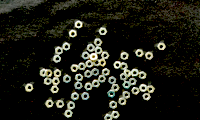nut: (46, 100, 55, 109), (53, 55, 62, 64), (90, 53, 99, 62), (98, 75, 107, 84), (25, 84, 34, 92), (44, 70, 53, 78), (51, 86, 60, 94), (54, 70, 62, 79), (55, 47, 63, 56), (56, 101, 65, 109), (65, 110, 73, 119), (63, 75, 71, 84), (69, 30, 77, 39), (71, 93, 80, 101), (75, 74, 84, 82), (78, 63, 87, 71), (85, 70, 93, 79), (86, 60, 94, 69), (82, 52, 91, 60), (87, 44, 95, 53), (92, 80, 101, 88), (92, 68, 100, 77), (94, 39, 103, 47), (99, 28, 108, 36), (98, 59, 107, 67), (101, 52, 110, 60), (108, 90, 116, 99), (110, 101, 118, 110), (112, 111, 120, 120), (119, 98, 127, 107), (123, 91, 131, 100), (121, 52, 129, 61), (44, 78, 52, 86), (52, 78, 60, 86), (63, 43, 71, 51), (75, 21, 83, 29), (68, 102, 76, 110), (71, 65, 79, 73), (75, 82, 83, 90), (82, 93, 90, 101), (85, 83, 93, 91), (95, 47, 103, 55), (102, 69, 110, 77), (109, 77, 117, 85), (114, 62, 122, 70), (120, 73, 128, 81), (124, 70, 132, 78), (132, 88, 140, 96), (139, 72, 147, 80), (136, 50, 144, 58), (140, 85, 148, 93), (143, 93, 151, 101), (147, 86, 155, 94), (146, 52, 154, 60), (158, 43, 166, 51), (123, 82, 132, 89), (131, 70, 140, 77), (112, 85, 120, 92), (121, 63, 128, 71), (130, 78, 137, 86), (40, 69, 46, 78), (94, 59, 100, 67), (105, 115, 113, 120)
